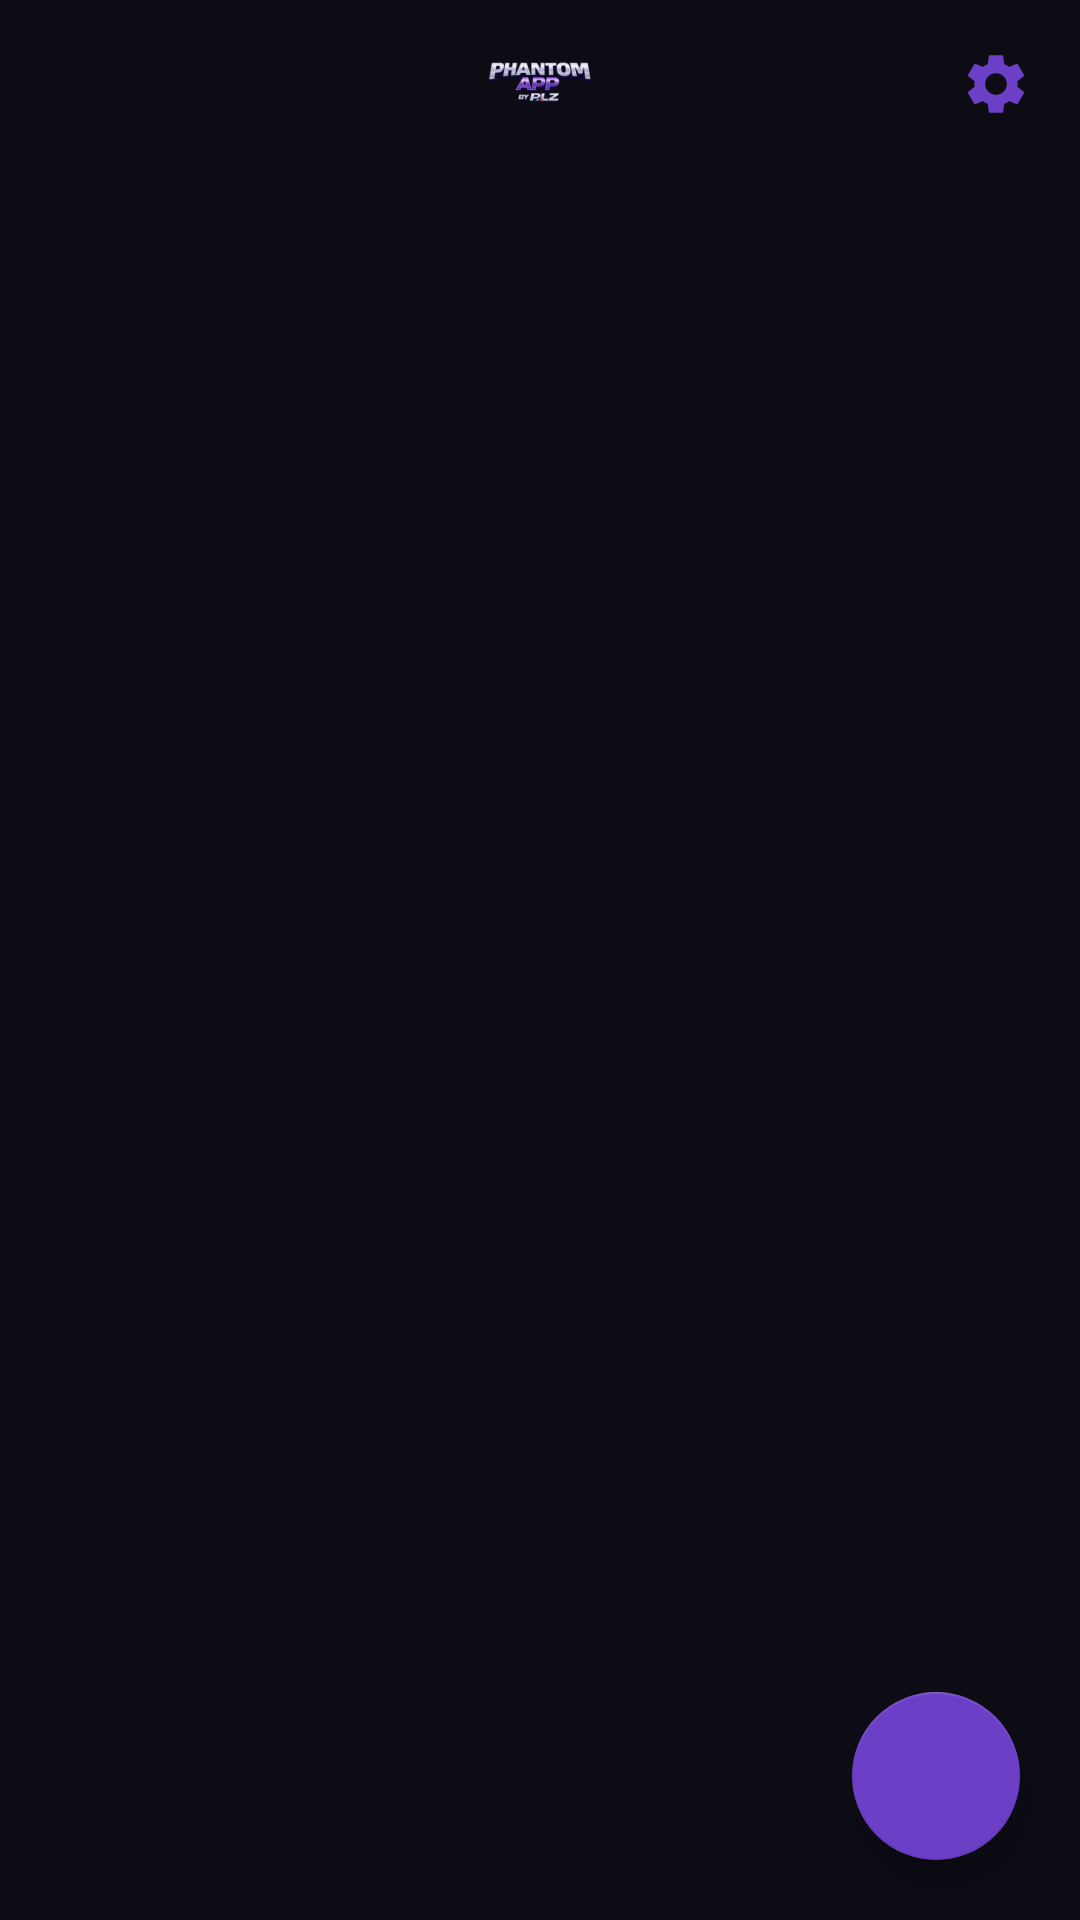

Locate icon controls on the screen. Image size 1080px×1920px, boxes as (x1, y1, x2, y2).
Settings: (968, 55, 1024, 113)
